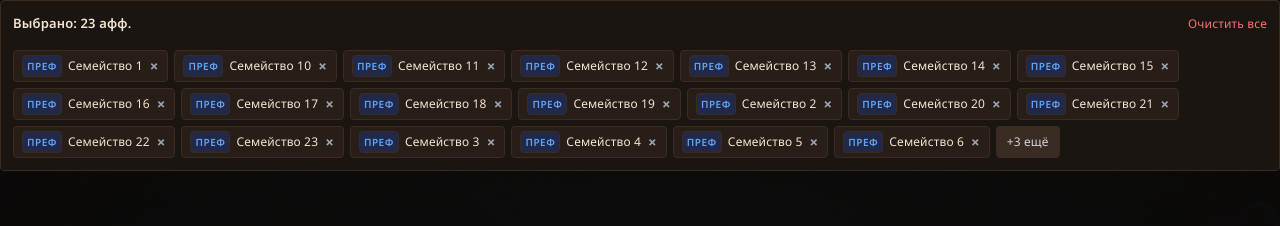
Test: SelectedBasket — Phase 3 (iter 135) › cap = SELECTED_BASKET_CAP (20) › clicking «+N ещё» reveals all chips + shows «свернуть» button
This screenshot has width=1280, height=226.
Note: Click «+3 ещё».
Click the button with aria-label "Развернуть оставшиеся 3 выбранных аффиксов" at (1028, 142), box 996,126 -> 1060,158
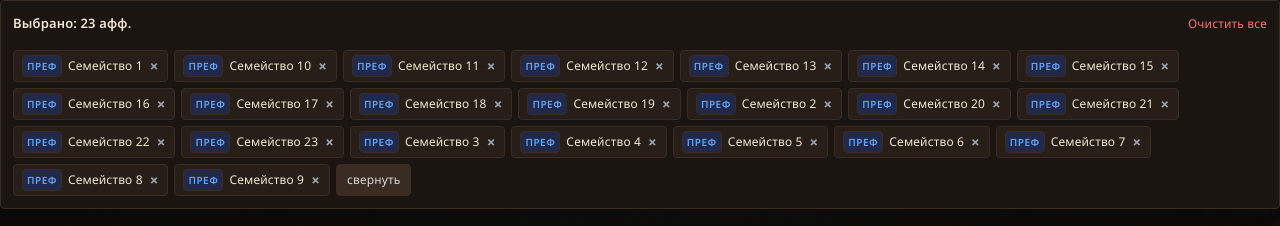
Now the number of buttons "ПРЕФ Семейство 1 ✗" is 23
Now the button with aria-label "Свернуть оставшиеся выбранные аффиксы" is shown, box 336,164 -> 411,196
